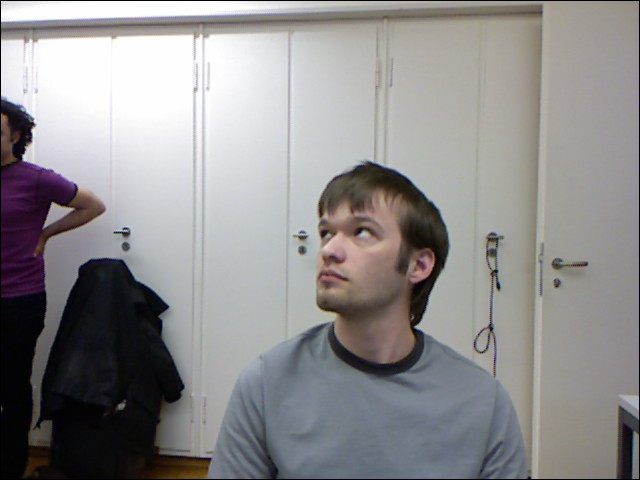deflection: (225, 170, 533, 471)
